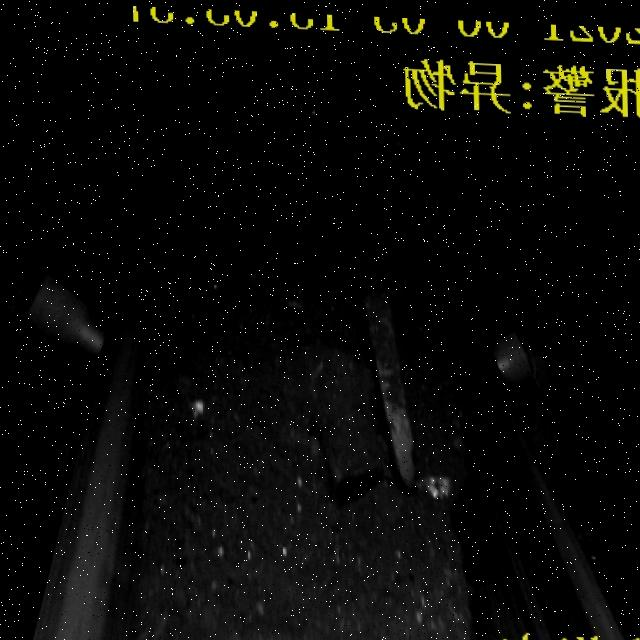large_sized_coal: (360, 289, 426, 490), (298, 348, 381, 488)
